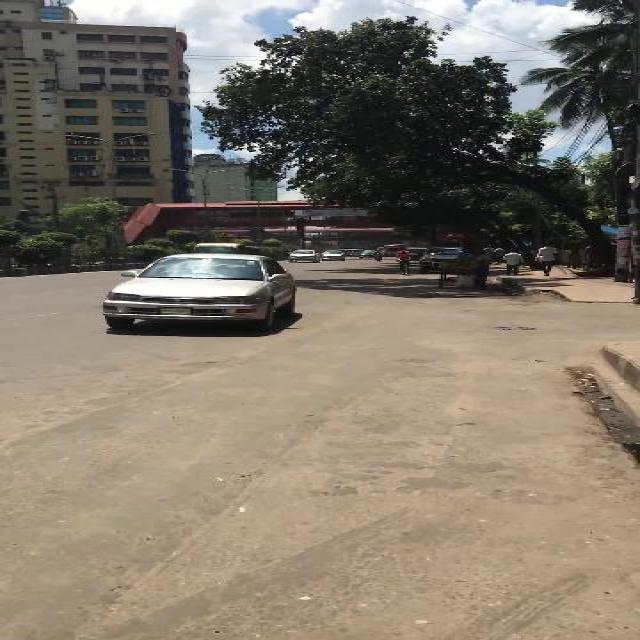bicycle: (396, 247, 412, 275)
car: (100, 251, 298, 333), (286, 248, 318, 262), (320, 249, 345, 261)
motorbike: (372, 248, 382, 260)
